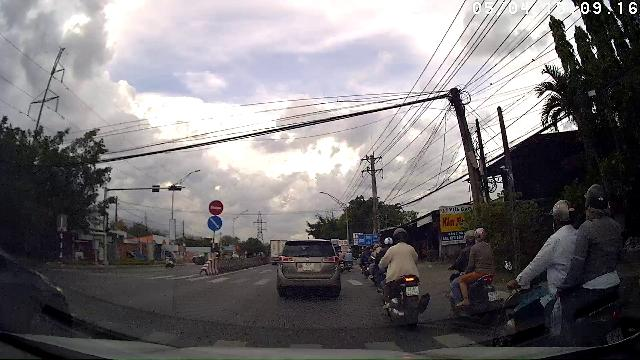102-cam-di-nguoc-chieu: (208, 200, 224, 215)
302a-huong-phai-di-vong-chuong-ngai-vat-1: (207, 215, 222, 231)
